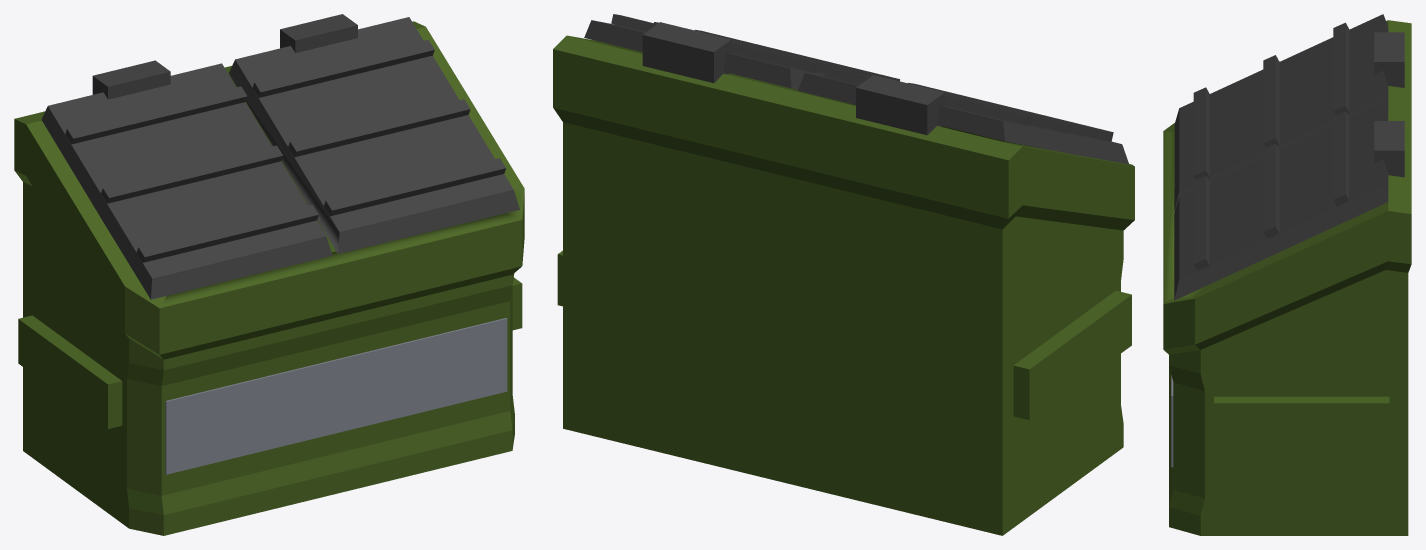
The model's file is Dumpster01S.glb.
3 views of the same model, side by side, from view 1: azimuth 30°, elevation 25°; view 2: azimuth 150°, elevation 25°; view 3: azimuth 270°, elevation 25° (orthographic). The views are drawn at different scales.
Parts seen in each view (by area): view 1: TrashContainer; view 2: TrashContainer; view 3: TrashContainer.
Boxes of the visible parts, x1,y1,x2,y2 form: TrashContainer: [14, 14, 524, 535]; TrashContainer: [553, 14, 1134, 535]; TrashContainer: [1163, 14, 1411, 535].
Bounding box in the file's own units: 2.44 × 2.03 × 1.3.
